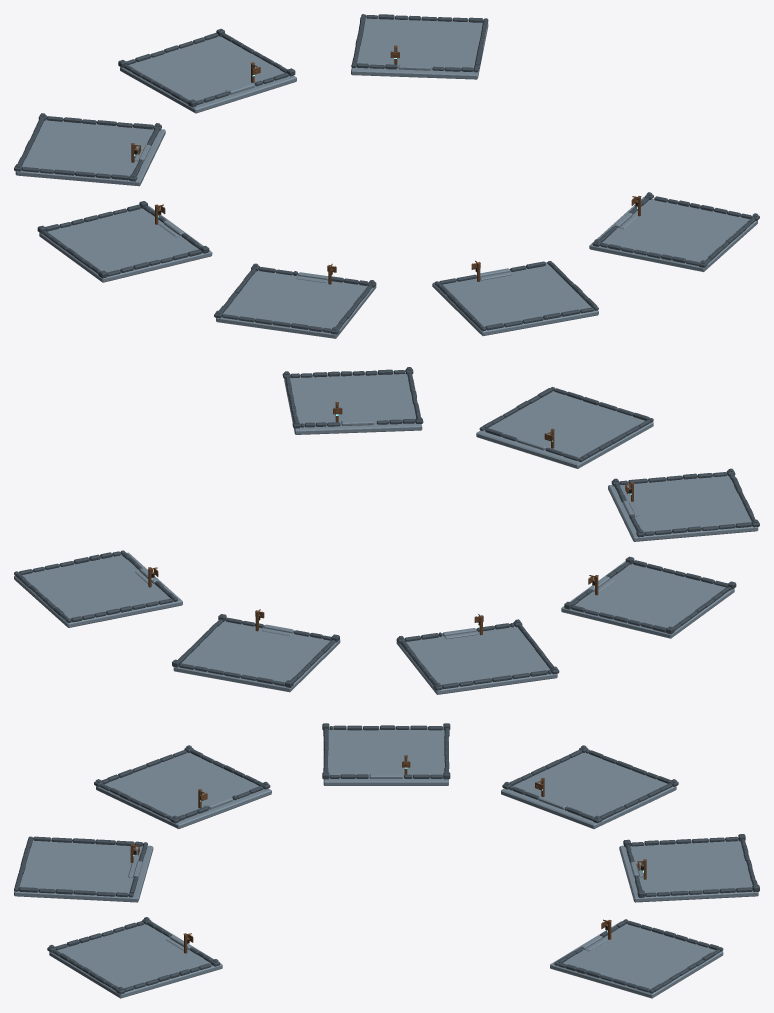
The model's file is DD_Plots.fbx.
3 views of the same model, one above another, from view 1: azimuth 30°, elevation 25°; view 2: azimuth 150°, elevation 25°; view 3: azimuth 270°, elevation 25° (orthographic).
Visible parts, largest first — view 1: DD_Plot_Pad_02.001, DD_Plot_Pad_01.001, DD_Plot_Pad_03.001, DD_Plot_Pad_07.001, DD_Plot_Pad_04.001, DD_Plot_Pad_06.001, DD_Plot_Pad_05.001, DD_Plot_Kerb_03.001, DD_Plot_Kerb_04.001, DD_Plot_Kerb_02.001, DD_Plot_Kerb_07.001, DD_Plot_Kerb_05.001 (+2 smaller); view 2: DD_Plot_Pad_06.001, DD_Plot_Pad_01.001, DD_Plot_Pad_07.001, DD_Plot_Pad_05.001, DD_Plot_Pad_04.001, DD_Plot_Pad_02.001, DD_Plot_Pad_03.001, DD_Plot_Kerb_04.001, DD_Plot_Kerb_05.001, DD_Plot_Kerb_06.001, DD_Plot_Kerb_03.001, DD_Plot_Kerb_07.001 (+2 smaller); view 3: DD_Plot_Pad_05.001, DD_Plot_Pad_03.001, DD_Plot_Pad_02.001, DD_Plot_Pad_01.001, DD_Plot_Pad_06.001, DD_Plot_Pad_07.001, DD_Plot_Pad_04.001, DD_Plot_Kerb_03.001, DD_Plot_Kerb_05.001, DD_Plot_Kerb_07.001, DD_Plot_Kerb_02.001, DD_Plot_Kerb_06.001 (+2 smaller).
Boxes of the visible parts, x1,y1,x2,y2 form: DD_Plot_Pad_02.001: [120, 36, 296, 113]; DD_Plot_Pad_01.001: [351, 18, 488, 79]; DD_Plot_Pad_03.001: [15, 119, 165, 186]; DD_Plot_Pad_07.001: [589, 197, 757, 271]; DD_Plot_Pad_04.001: [39, 205, 212, 282]; DD_Plot_Pad_06.001: [432, 262, 598, 335]; DD_Plot_Pad_05.001: [216, 269, 376, 338]; DD_Plot_Kerb_03.001: [14, 113, 161, 181]; DD_Plot_Kerb_04.001: [37, 201, 209, 278]; DD_Plot_Kerb_02.001: [118, 28, 295, 107]; DD_Plot_Kerb_07.001: [592, 192, 759, 267]; DD_Plot_Kerb_05.001: [214, 263, 376, 334]; DD_Plot_Pad_06.001: [476, 391, 653, 468]; DD_Plot_Pad_01.001: [14, 552, 182, 627]; DD_Plot_Pad_07.001: [284, 373, 422, 434]; DD_Plot_Pad_05.001: [608, 475, 758, 541]; DD_Plot_Pad_04.001: [561, 561, 734, 638]; DD_Plot_Pad_02.001: [173, 620, 340, 692]; DD_Plot_Pad_03.001: [396, 626, 557, 694]; DD_Plot_Kerb_04.001: [564, 556, 736, 634]; DD_Plot_Kerb_05.001: [611, 468, 759, 537]; DD_Plot_Kerb_06.001: [479, 387, 653, 462]; DD_Plot_Kerb_03.001: [396, 619, 559, 690]; DD_Plot_Kerb_07.001: [282, 367, 423, 428]; DD_Plot_Pad_05.001: [96, 752, 271, 828]; DD_Plot_Pad_03.001: [501, 752, 676, 828]; DD_Plot_Pad_02.001: [619, 840, 758, 902]; DD_Plot_Pad_01.001: [550, 921, 723, 998]; DD_Plot_Pad_06.001: [14, 840, 153, 902]; DD_Plot_Pad_07.001: [49, 921, 222, 998]; DD_Plot_Pad_04.001: [323, 729, 448, 785]; DD_Plot_Kerb_03.001: [502, 745, 678, 823]; DD_Plot_Kerb_05.001: [94, 745, 270, 823]; DD_Plot_Kerb_07.001: [47, 917, 220, 994]; DD_Plot_Kerb_02.001: [623, 834, 759, 897]; DD_Plot_Kerb_06.001: [14, 836, 147, 897].
Bounding box in the file's own units: 3.52 × 0.1488 × 4.16.
